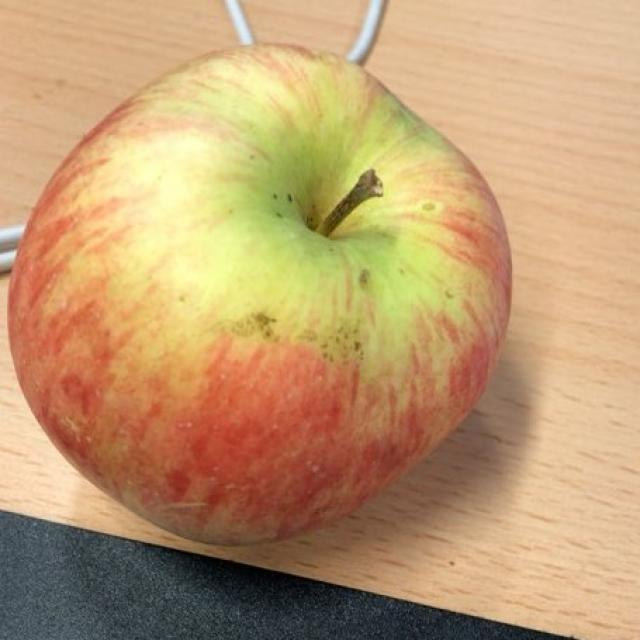apple: (18, 50, 499, 541)
